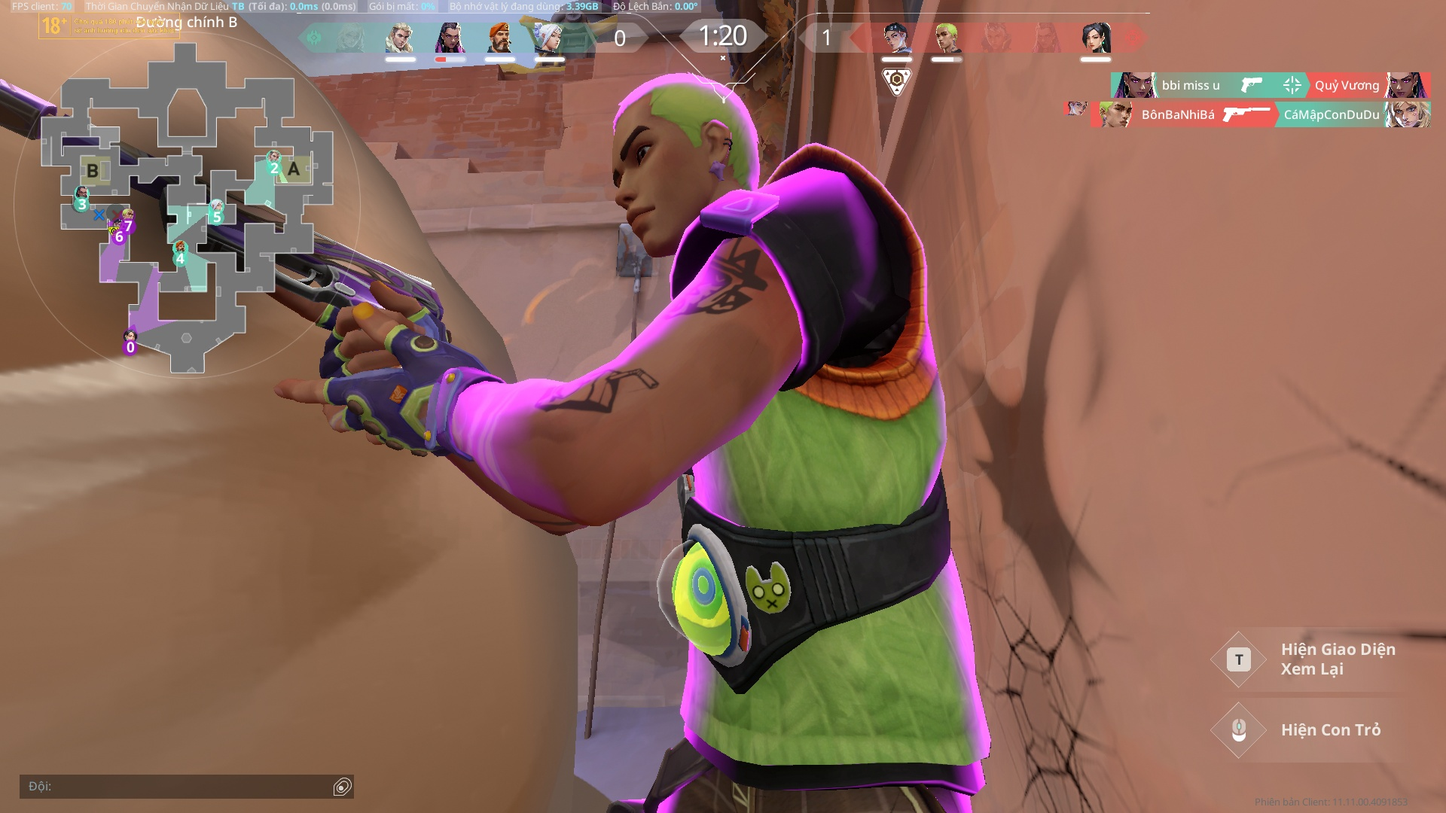body: (666, 192, 954, 571)
head: (598, 87, 762, 227)
